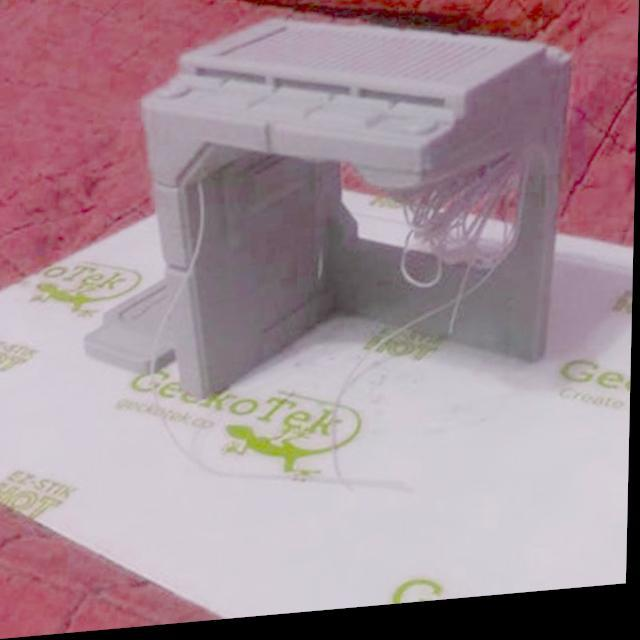spaghetti: (400, 157, 530, 346), (148, 179, 213, 388)
